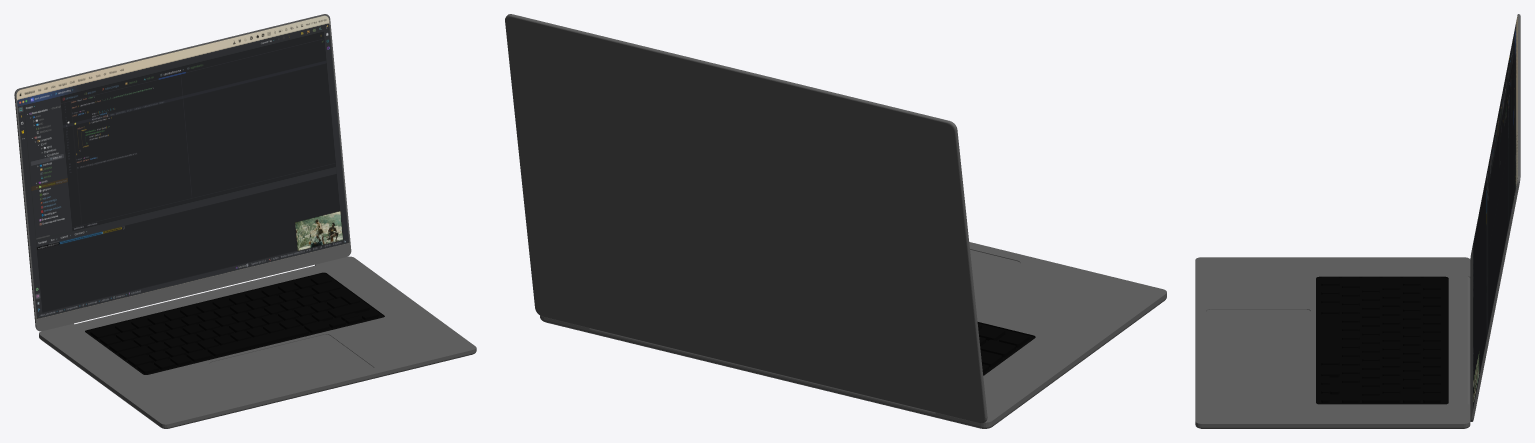
Rendered from MacBookPro.gltf.
3 renders of one model, left to right at view 1: azimuth 30°, elevation 25°; view 2: azimuth 150°, elevation 25°; view 3: azimuth 270°, elevation 25°, orthographic. The views are drawn at different scales.
Parts seen in each view (by area): view 1: MacBookPro; view 2: MacBookPro; view 3: MacBookPro.
Boxes of the visible parts, x1,y1,x2,y2 form: MacBookPro: (14,14,476,428); MacBookPro: (505,14,1166,428); MacBookPro: (1195,14,1520,428).
Size of the model in its own units: 3.56 by 2.5 by 2.93.
Materials: 3 (1 with a texture image).
